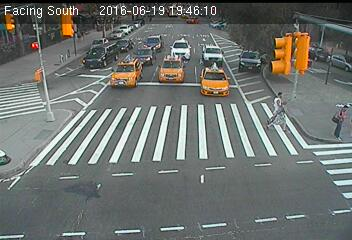neg: (28, 86, 52, 118), (60, 40, 74, 58)
pos: (324, 101, 351, 144)
